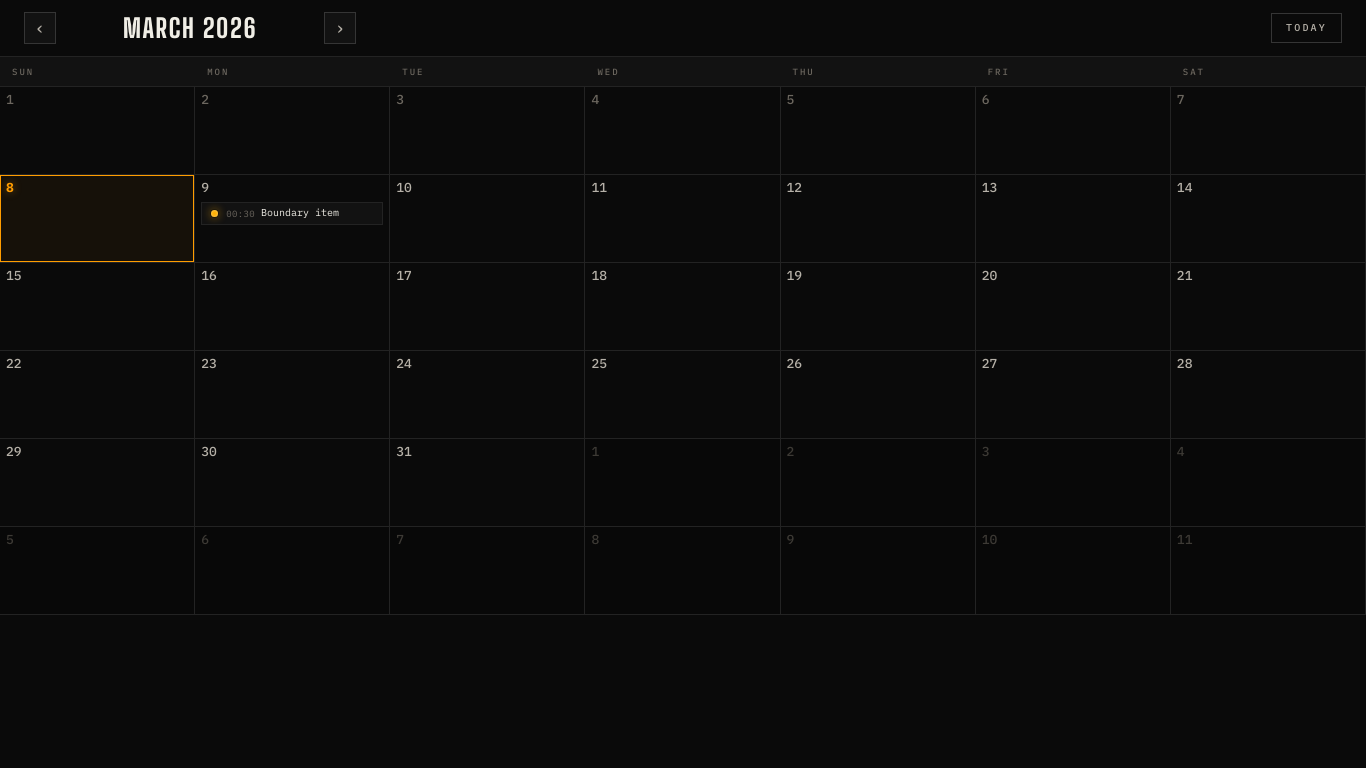
Scenario: CalendarView day selection › agrees with the day panel about which cell a DST-boundary reminder belongs to (spring-forward, America/Chicago 2026)
Expected: the text "Boundary item" is shown once, [261,206,339,219]
Step 1. Click the 1st cell "8" → (98, 219), box [0,175,195,263]
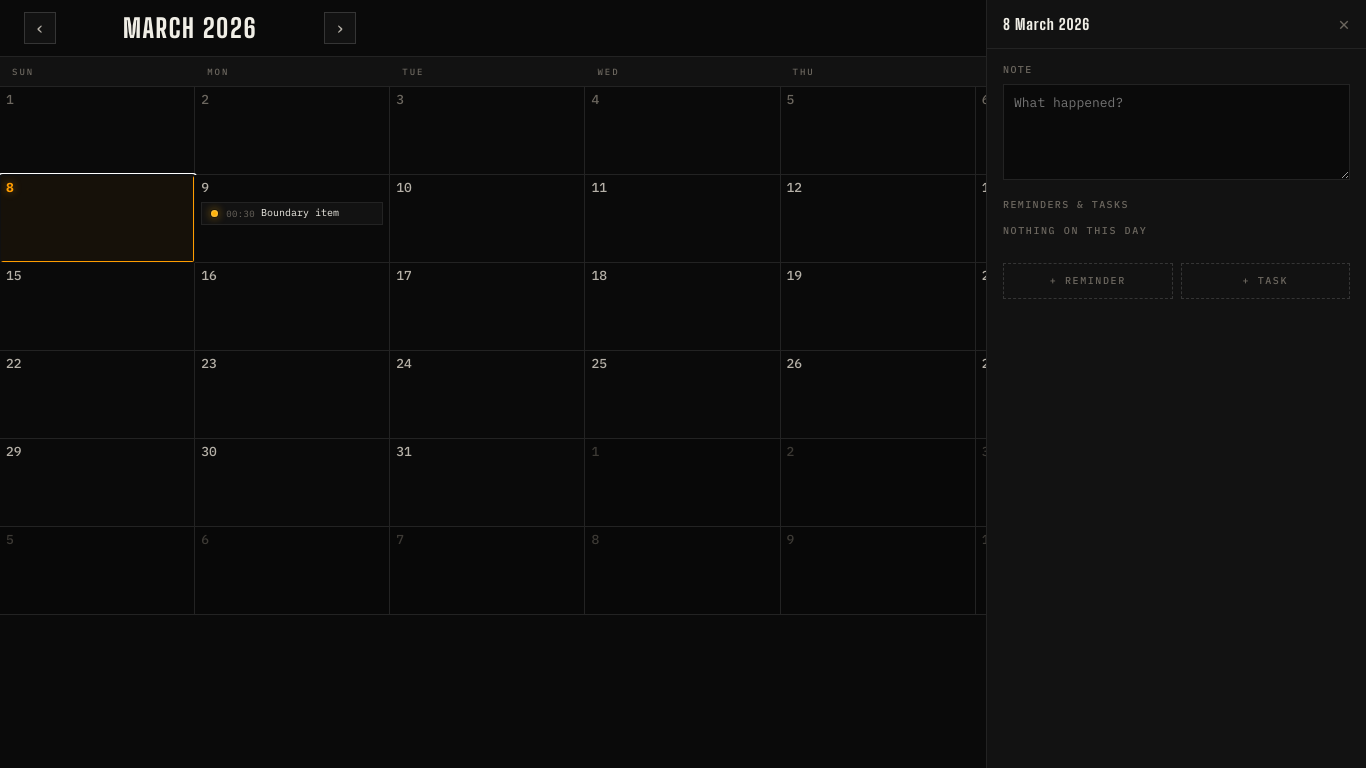
Step 2. Click the cell "9 00:30 Boundary item" → (293, 219), box [195,175,390,263]
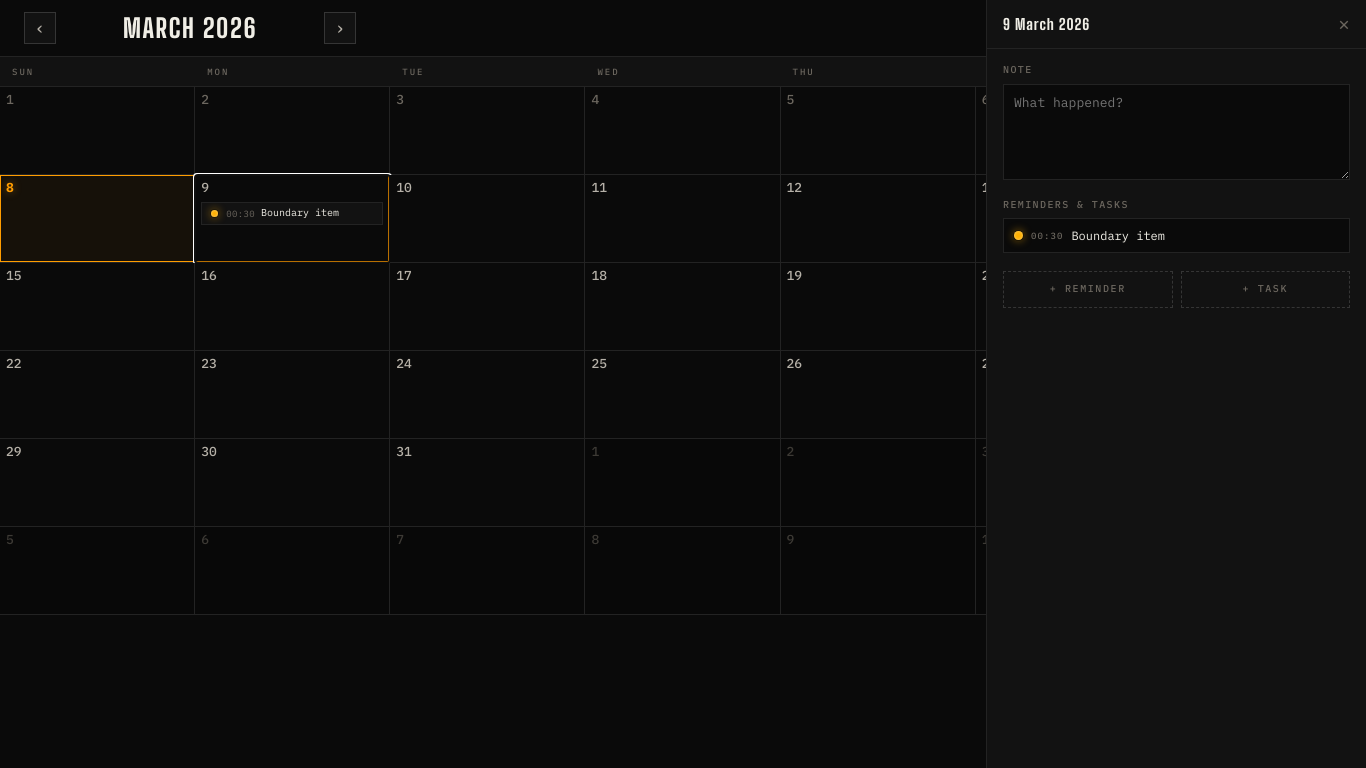
Expected: the text "Boundary item" below "Reminders & tasks" is shown, [1071,228,1165,243]
